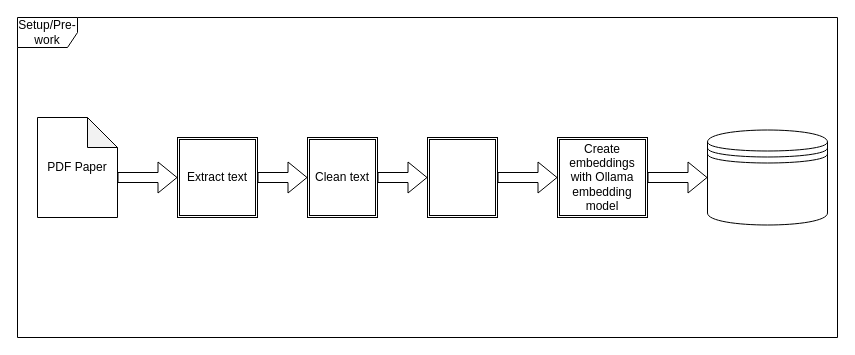
Image size: 855x355. Some labels were removed from this diagram. Each missing label, with the box of its shape:
Split into word chunks with overlap: (426, 136, 498, 218)
Store chunk text, embedding, page metadata in Chroma: (706, 129, 828, 225)
